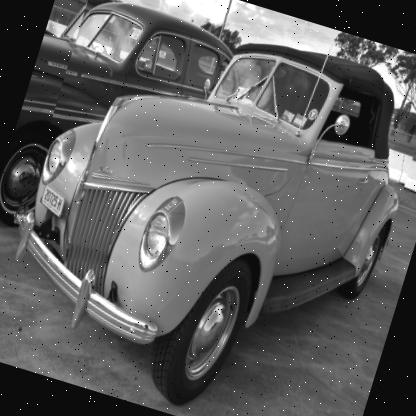Car: (0, 0, 415, 415), (0, 0, 254, 276)
